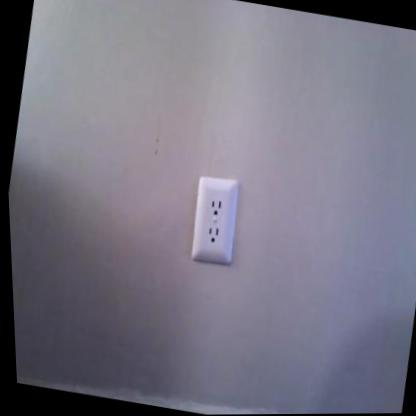OUTLET: (184, 174, 244, 264)
